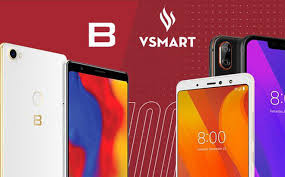bphone: (1, 40, 67, 177), (63, 57, 131, 177)
vsmart: (173, 72, 255, 177)
